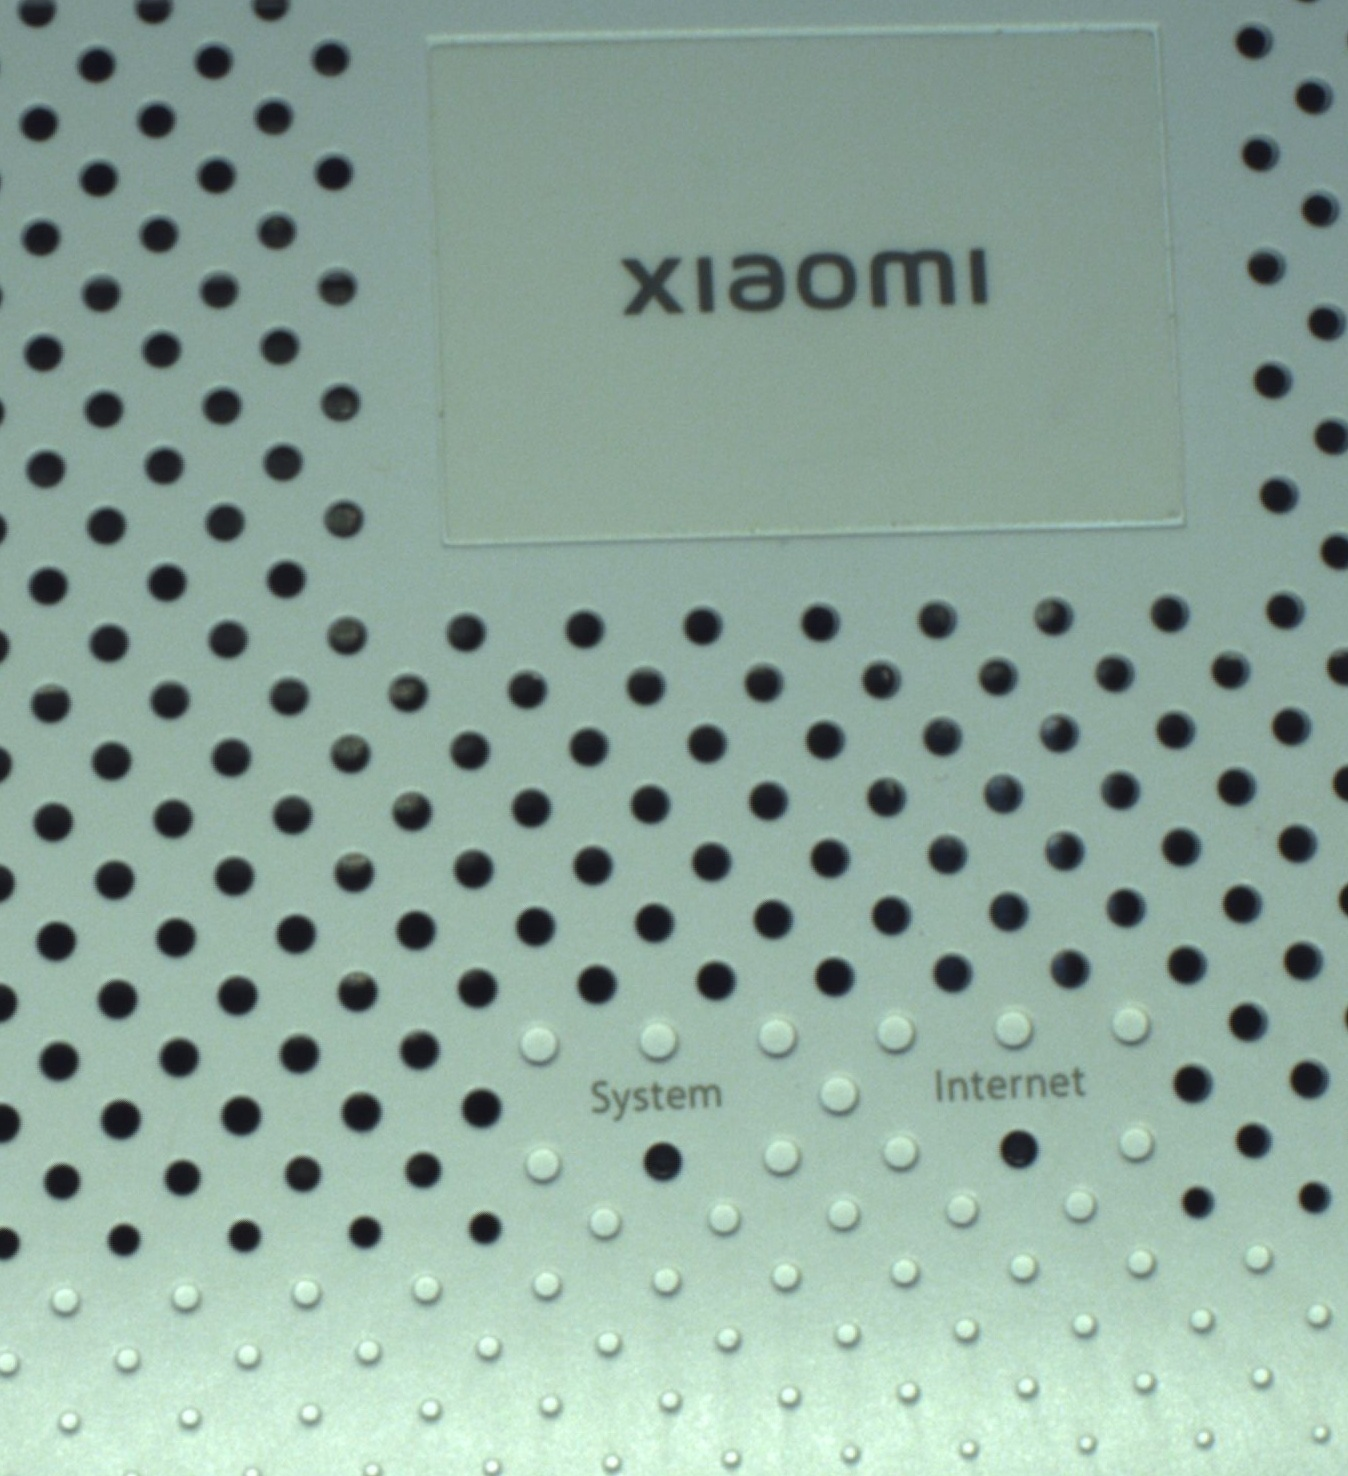MAB_OldUnicom: (615, 228, 993, 328)
